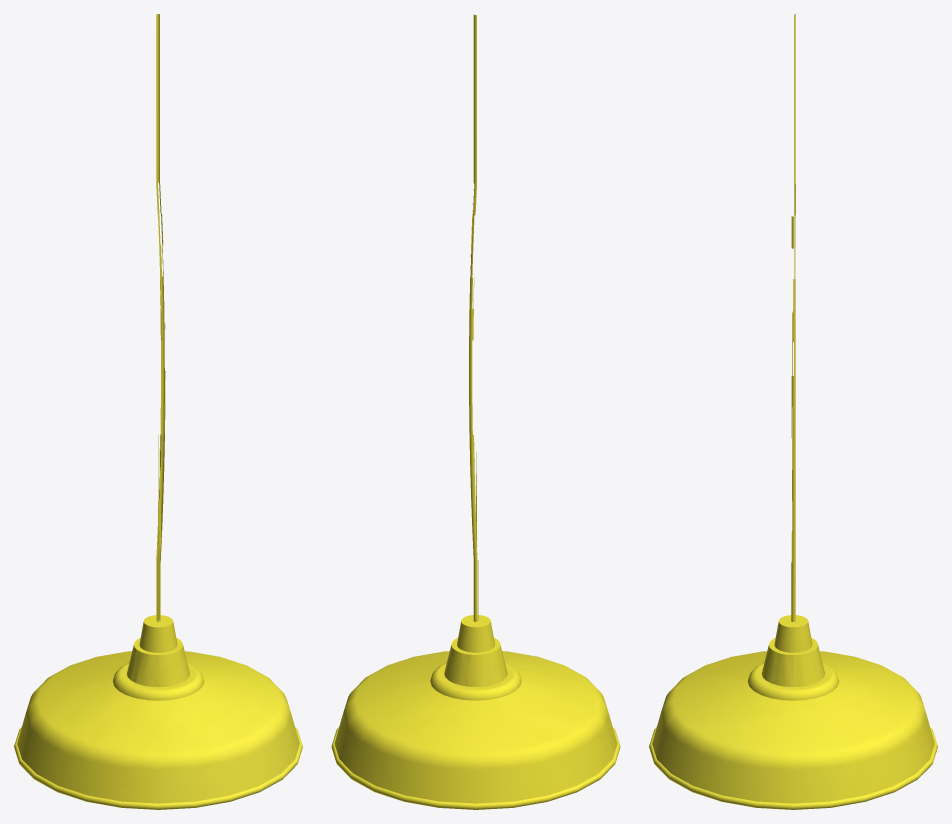
File: lampara.fbx
The picture shows the model from 3 angles, left to right: view 1: azimuth 30°, elevation 25°; view 2: azimuth 150°, elevation 25°; view 3: azimuth 270°, elevation 25°; orthographic projection.
Visible parts, largest first — view 1: Polygon; view 2: Polygon; view 3: Polygon.
Boxes of the visible parts, x1,y1,x2,y2 form: Polygon: (14, 14, 302, 809); Polygon: (331, 14, 620, 809); Polygon: (649, 14, 937, 809).
Bounding box in the file's own units: 53.62 × 151 × 53.62.
Materials: 1 (1 with a texture image).
